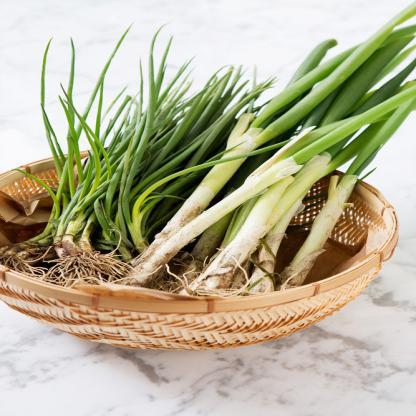green onion: (116, 0, 416, 286), (192, 18, 414, 298), (282, 84, 416, 292)
